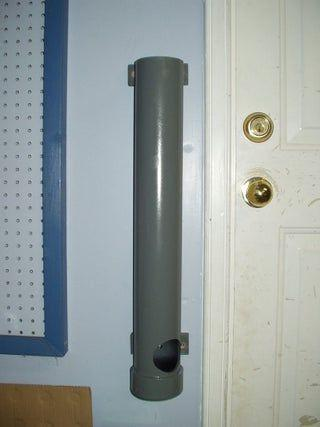PVC: (125, 55, 189, 404)
